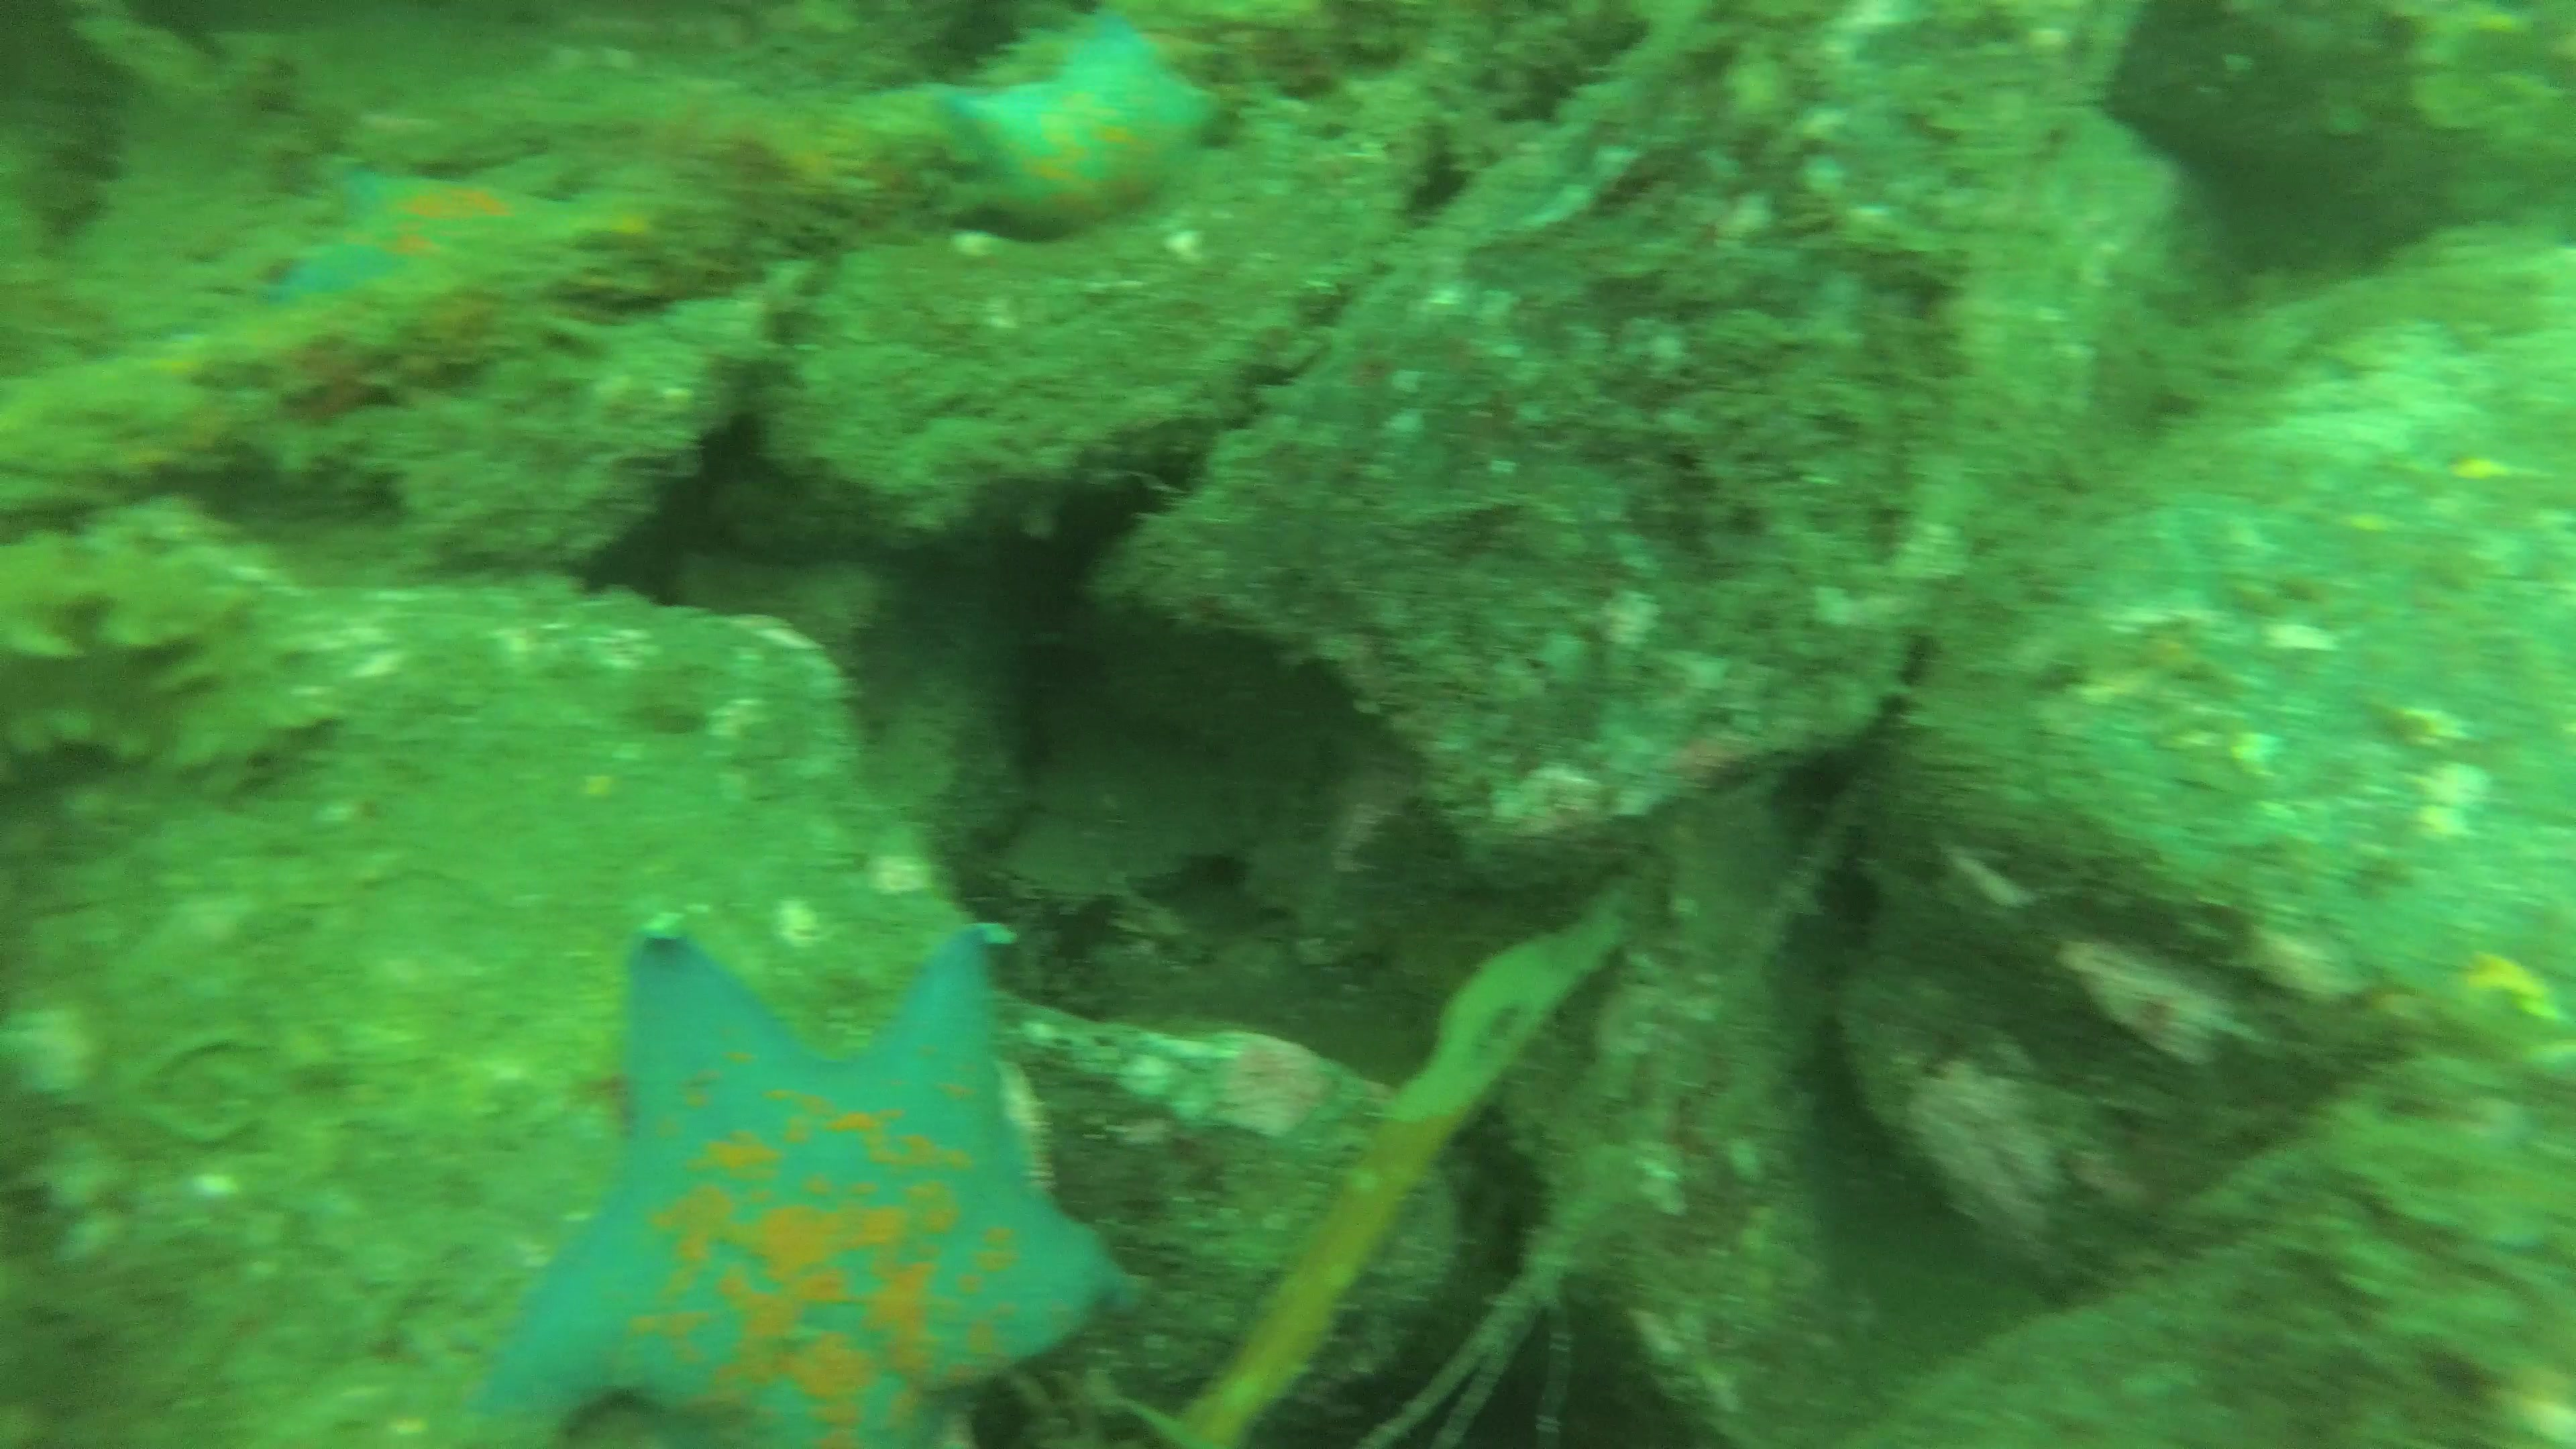starfish: (462, 927, 1127, 1449), (253, 163, 653, 352), (934, 9, 1221, 241)
